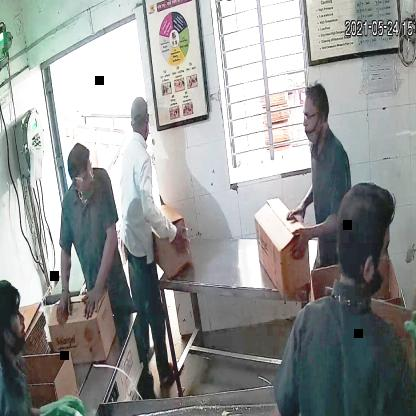goggles: (69, 159, 96, 188), (300, 104, 324, 127)
